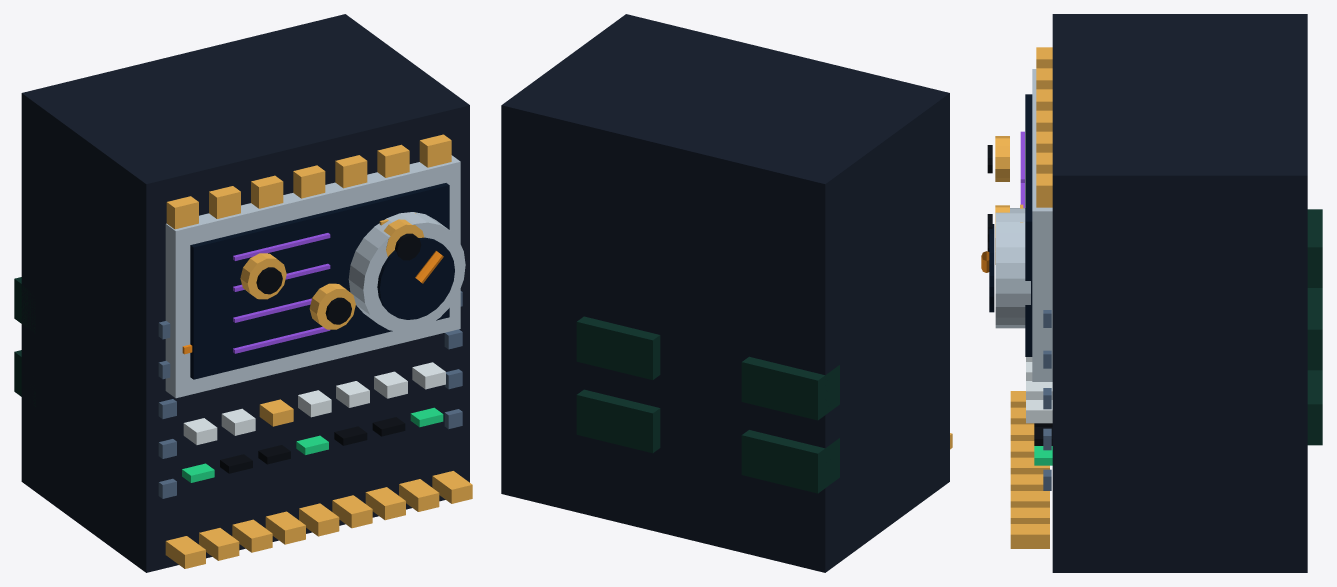
File: 47_L91_ClockBiasEstimator.fbx
3 views of the same model, side by side, from view 1: azimuth 30°, elevation 25°; view 2: azimuth 150°, elevation 25°; view 3: azimuth 270°, elevation 25° (orthographic). The views are drawn at different scales.
Visible parts, largest first — view 1: L91_ClockBiasEstimator, L91_ClockBiasEstimator_Part_0013, L91_ClockBiasEstimator_Part_0015, L91_ClockBiasEstimator_Part_0017; view 2: L91_ClockBiasEstimator; view 3: L91_ClockBiasEstimator, L91_ClockBiasEstimator_Part_0013.
Boxes of the visible parts, x1,y1,x2,y2 form: L91_ClockBiasEstimator: [14, 14, 472, 572]; L91_ClockBiasEstimator_Part_0013: [240, 253, 286, 299]; L91_ClockBiasEstimator_Part_0015: [309, 283, 355, 329]; L91_ClockBiasEstimator_Part_0017: [384, 219, 424, 256]; L91_ClockBiasEstimator: [501, 14, 952, 572]; L91_ClockBiasEstimator: [989, 14, 1322, 572]; L91_ClockBiasEstimator_Part_0013: [995, 136, 1009, 181].
Size of the model in its own units: 108 by 123 by 96.09.
